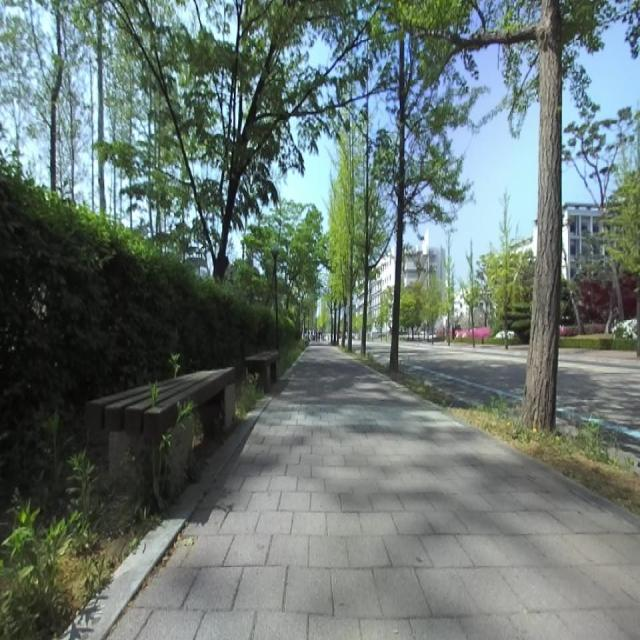sidewalk: (65, 344, 640, 640)
